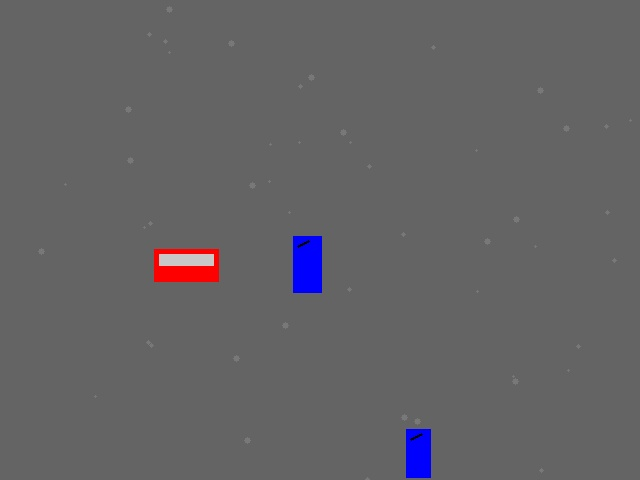car: (154, 249, 218, 281)
motorcycle: (293, 236, 321, 292), (406, 429, 430, 477)
